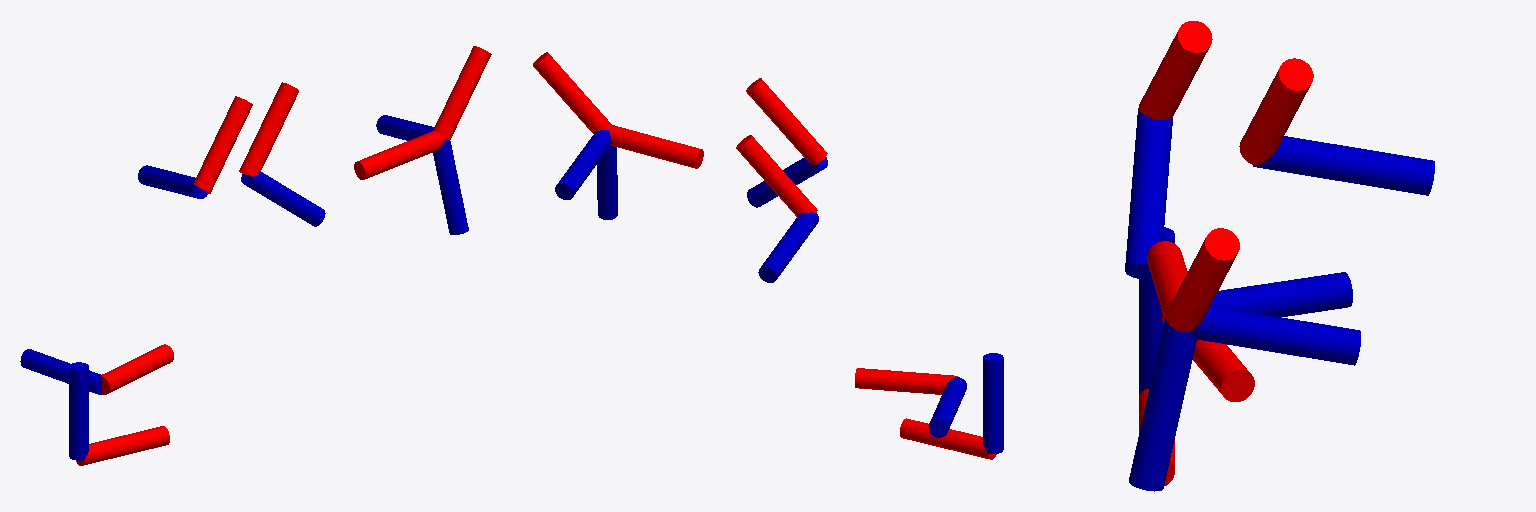
The robot description file, URDF, robot "example_robot":
<robot name="example_robot">
	<link name="link0_passive">
		<visual>
			<material name="blue">
				<color rgba="0 0 .8 1"/>
			</material>
			<geometry>
				<origin xyz="0 0 0" rpy="0 0 0"/>
				<cylinder length="0.0" radius="0.0"/>
			</geometry>
		</visual>
	</link>
	<link name="link0_x_axis">
		<visual>
			<material name="red">
				<color rgba="1 0 0 1"/>
			</material>
			<geometry>
				<origin xyz="0 0 0" rpy="0 0 0"/>
				<cylinder length="0.0" radius="0.0"/>
			</geometry>
		</visual>
	</link>
	<joint name="q0_x" type="fixed">
		<origin xyz="0 0 0" rpy="0 1.571 0"/>
		<parent link="link0_passive"/>
		<child link="link0_x_axis"/>
	</joint>
	<link name="link1"/>
	<link name="link1_x_axis">
		<visual>
			<origin xyz="0 0 0.25" rpy="0 0 0"/>
			<material name="red"/>
			<geometry>
				<cylinder length="0.5" radius="0.05"/>
			</geometry>
		</visual>
	</link>
	<joint name="q1" type="revolute">
		<origin xyz="0 0 0" rpy="0 0 0"/>
		<parent link="link0_passive"/>
		<child link="link1"/>
		<axis xyz="0 0 1"/>
	</joint>
	<joint name="q1_passive" type="fixed">
		<origin xyz="0 0 0" rpy="0 0 0"/>
		<parent link="link1"/>
		<child link="link1_passive"/>
	</joint>
	<link name="link1_passive">
		<visual>
			<origin xyz="0 0 0.25" rpy="0 0 0"/>
			<material name="blue"/>
			<geometry>
				<cylinder length="0.5" radius="0.05"/>
			</geometry>
		</visual>
	</link>
	<joint name="q1_x" type="fixed">
		<origin xyz="0 0 0" rpy="0 1.571 0"/>
		<parent link="link1_passive"/>
		<child link="link1_x_axis"/>
	</joint>
	<link name="link2"/>
	<link name="link2_x_axis">
		<visual>
			<origin xyz="0 0 0.25" rpy="0 0 0"/>
			<material name="red"/>
			<geometry>
				<cylinder length="0.5" radius="0.05"/>
			</geometry>
		</visual>
	</link>
	<joint name="q2" type="revolute">
		<origin xyz="0 0 0.33" rpy="0 0 0.34"/>
		<parent link="link1_passive"/>
		<child link="link2"/>
		<axis xyz="0 0 1"/>
	</joint>
	<joint name="q2_passive" type="fixed">
		<origin xyz="0.18 0 0" rpy="-1.5707963267948966 0 0"/>
		<parent link="link2"/>
		<child link="link2_passive"/>
	</joint>
	<link name="link2_passive">
		<visual>
			<origin xyz="0 0 0.25" rpy="0 0 0"/>
			<material name="blue"/>
			<geometry>
				<cylinder length="0.5" radius="0.05"/>
			</geometry>
		</visual>
	</link>
	<joint name="q2_x" type="fixed">
		<origin xyz="0 0 0" rpy="0 1.571 0"/>
		<parent link="link2_passive"/>
		<child link="link2_x_axis"/>
	</joint>
	<link name="link3"/>
	<link name="link3_x_axis">
		<visual>
			<origin xyz="0 0 0.25" rpy="0 0 0"/>
			<material name="red"/>
			<geometry>
				<cylinder length="0.5" radius="0.05"/>
			</geometry>
		</visual>
	</link>
	<joint name="q3" type="revolute">
		<origin xyz="0 0 -0.028" rpy="0 0 -0.85"/>
		<parent link="link2_passive"/>
		<child link="link3"/>
		<axis xyz="0 0 1"/>
	</joint>
	<joint name="q3_passive" type="fixed">
		<origin xyz="1.116 0 0" rpy="-0.334 0 0"/>
		<parent link="link3"/>
		<child link="link3_passive"/>
	</joint>
	<link name="link3_passive">
		<visual>
			<origin xyz="0 0 0.25" rpy="0 0 0"/>
			<material name="blue"/>
			<geometry>
				<cylinder length="0.5" radius="0.05"/>
			</geometry>
		</visual>
	</link>
	<joint name="q3_x" type="fixed">
		<origin xyz="0 0 0" rpy="0 1.571 0"/>
		<parent link="link3_passive"/>
		<child link="link3_x_axis"/>
	</joint>
	<link name="link4"/>
	<link name="link4_x_axis">
		<visual>
			<origin xyz="0 0 0.25" rpy="0 0 0"/>
			<material name="red"/>
			<geometry>
				<cylinder length="0.5" radius="0.05"/>
			</geometry>
		</visual>
	</link>
	<joint name="q4" type="revolute">
		<origin xyz="0 0 -0.32" rpy="0 0 0"/>
		<parent link="link3_passive"/>
		<child link="link4"/>
		<axis xyz="0 0 1"/>
	</joint>
	<joint name="q4_passive" type="fixed">
		<origin xyz="0.13 0 0" rpy="-1.5707963267948966 0 0"/>
		<parent link="link4"/>
		<child link="link4_passive"/>
	</joint>
	<link name="link4_passive">
		<visual>
			<origin xyz="0 0 0.25" rpy="0 0 0"/>
			<material name="blue"/>
			<geometry>
				<cylinder length="0.5" radius="0.05"/>
			</geometry>
		</visual>
	</link>
	<joint name="q4_x" type="fixed">
		<origin xyz="0 0 0" rpy="0 1.571 0"/>
		<parent link="link4_passive"/>
		<child link="link4_x_axis"/>
	</joint>
	<link name="link5"/>
	<link name="link5_x_axis">
		<visual>
			<origin xyz="0 0 0.25" rpy="0 0 0"/>
			<material name="red"/>
			<geometry>
				<cylinder length="0.5" radius="0.05"/>
			</geometry>
		</visual>
	</link>
	<joint name="q5" type="revolute">
		<origin xyz="0 0 0.96" rpy="0 0 0"/>
		<parent link="link4_passive"/>
		<child link="link5"/>
		<axis xyz="0 0 1"/>
	</joint>
	<joint name="q5_passive" type="fixed">
		<origin xyz="0.665 0 0" rpy="1.5707963267948966 0 0"/>
		<parent link="link5"/>
		<child link="link5_passive"/>
	</joint>
	<link name="link5_passive">
		<visual>
			<origin xyz="0 0 0.25" rpy="0 0 0"/>
			<material name="blue"/>
			<geometry>
				<cylinder length="0.5" radius="0.05"/>
			</geometry>
		</visual>
	</link>
	<joint name="q5_x" type="fixed">
		<origin xyz="0 0 0" rpy="0 1.571 0"/>
		<parent link="link5_passive"/>
		<child link="link5_x_axis"/>
	</joint>
	<link name="link6"/>
	<link name="link6_x_axis">
		<visual>
			<origin xyz="0 0 0.25" rpy="0 0 0"/>
			<material name="red"/>
			<geometry>
				<cylinder length="0.5" radius="0.05"/>
			</geometry>
		</visual>
	</link>
	<joint name="q6" type="revolute">
		<origin xyz="0 0 0" rpy="0 0 -2.35"/>
		<parent link="link5_passive"/>
		<child link="link6"/>
		<axis xyz="0 0 1"/>
	</joint>
	<joint name="q6_passive" type="fixed">
		<origin xyz="0 0 0" rpy="1.5707963267948966 0 0"/>
		<parent link="link6"/>
		<child link="link6_passive"/>
	</joint>
	<link name="link6_passive">
		<visual>
			<origin xyz="0 0 0.25" rpy="0 0 0"/>
			<material name="blue"/>
			<geometry>
				<cylinder length="0.5" radius="0.05"/>
			</geometry>
		</visual>
	</link>
	<joint name="q6_x" type="fixed">
		<origin xyz="0 0 0" rpy="0 1.571 0"/>
		<parent link="link6_passive"/>
		<child link="link6_x_axis"/>
	</joint>
</robot>

--- Facts derived from the render (not from the file) ---
3 views of the same robot in one strip: view 1: azimuth 30°, elevation 25°; view 2: azimuth 150°, elevation 25°; view 3: azimuth 270°, elevation 25° (orthographic).
Model example_robot with 20 links and 19 joints (6 revolute, 13 fixed), rooted at link0_passive, posed all joints at 0.
Visible links, largest first — view 1: link3_x_axis, link4_x_axis, link1_passive, link5_x_axis, link6_x_axis, link6_passive, link1_x_axis, link4_passive, link2_x_axis, link2_passive, link3_passive, link5_passive; view 2: link4_x_axis, link1_passive, link3_x_axis, link5_x_axis, link6_x_axis, link2_x_axis, link3_passive, link1_x_axis, link5_passive, link6_passive, link2_passive, link4_passive; view 3: link6_passive, link3_passive, link5_passive, link4_passive, link2_passive, link3_x_axis, link5_x_axis, link4_x_axis, link2_x_axis, link1_passive, link6_x_axis.
Boxes of the visible links, x1,y1,x2,y2 form: link3_x_axis: [194, 96, 252, 193]; link4_x_axis: [239, 82, 298, 176]; link1_passive: [69, 362, 88, 460]; link5_x_axis: [433, 46, 491, 139]; link6_x_axis: [354, 131, 444, 179]; link6_passive: [433, 140, 468, 234]; link1_x_axis: [76, 426, 169, 465]; link4_passive: [241, 172, 325, 226]; link2_x_axis: [102, 344, 173, 394]; link2_passive: [20, 349, 101, 394]; link3_passive: [138, 165, 207, 198]; link5_passive: [376, 115, 433, 140]; link4_x_axis: [746, 78, 827, 165]; link1_passive: [983, 353, 1003, 453]; link3_x_axis: [736, 135, 817, 216]; link5_x_axis: [533, 52, 611, 133]; link6_x_axis: [609, 125, 703, 168]; link2_x_axis: [855, 368, 957, 394]; link3_passive: [758, 212, 818, 282]; link1_x_axis: [900, 418, 996, 459]; link5_passive: [555, 130, 611, 199]; link6_passive: [597, 146, 617, 219]; link2_passive: [928, 377, 966, 437]; link4_passive: [747, 157, 827, 207]; link6_passive: [1129, 317, 1196, 491]; link3_passive: [1253, 136, 1434, 195]; link5_passive: [1190, 306, 1360, 365]; link4_passive: [1125, 109, 1172, 278]; link2_passive: [1211, 272, 1352, 316]; link3_x_axis: [1239, 58, 1313, 164]; link5_x_axis: [1166, 228, 1239, 331]; link4_x_axis: [1138, 21, 1212, 119]; link2_x_axis: [1162, 312, 1254, 401]; link1_passive: [1139, 227, 1174, 393]; link6_x_axis: [1147, 241, 1187, 318].
Bounding box of the posed robot: 2.54 × 0.8667 × 1.79 m (x, y, z).
Geometry: primitives only (box / cylinder / sphere), no mesh files.